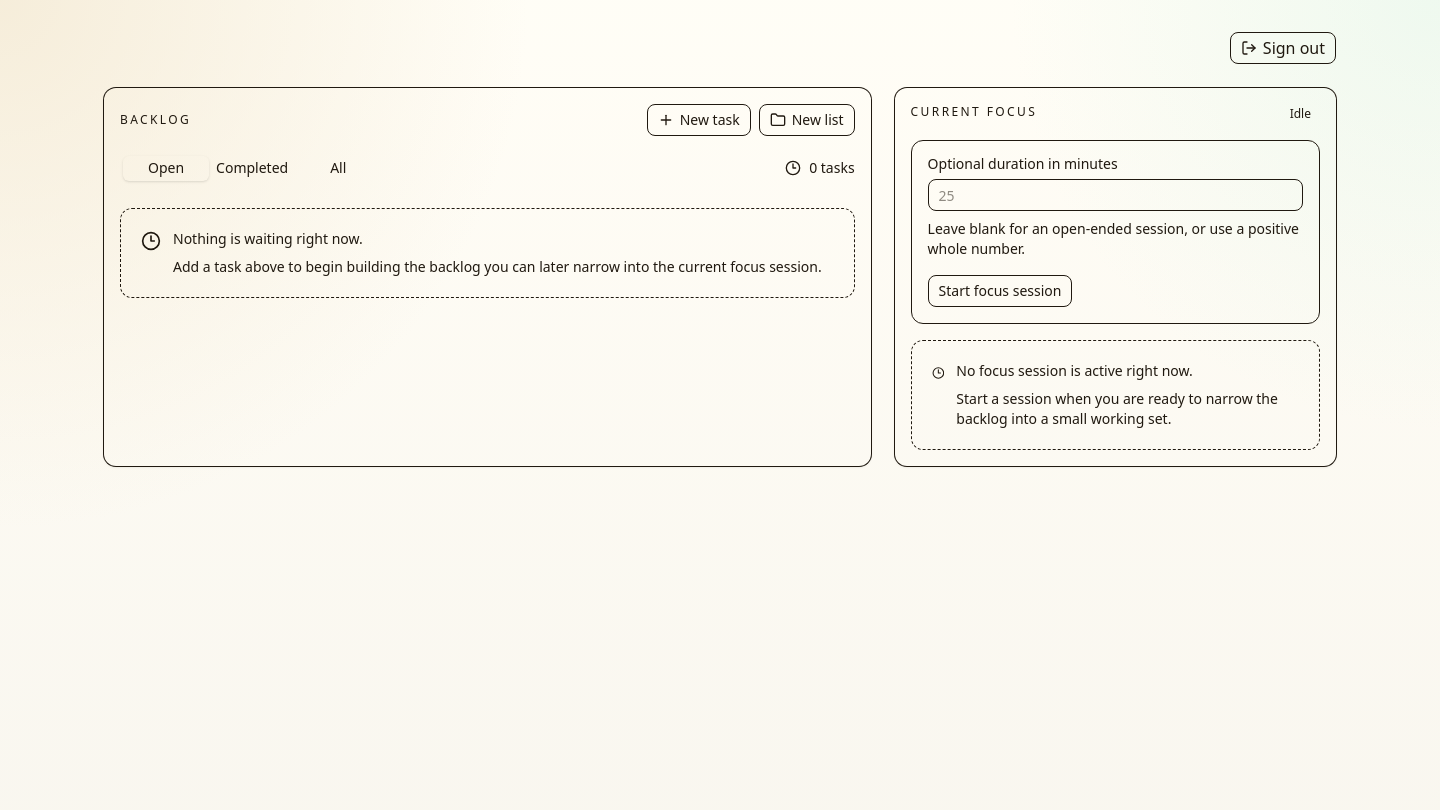
AppShellPage › opens compact creation dialogs from backlog actions
Click the button "New task".
click(699, 120)  # box [647,104,751,136]
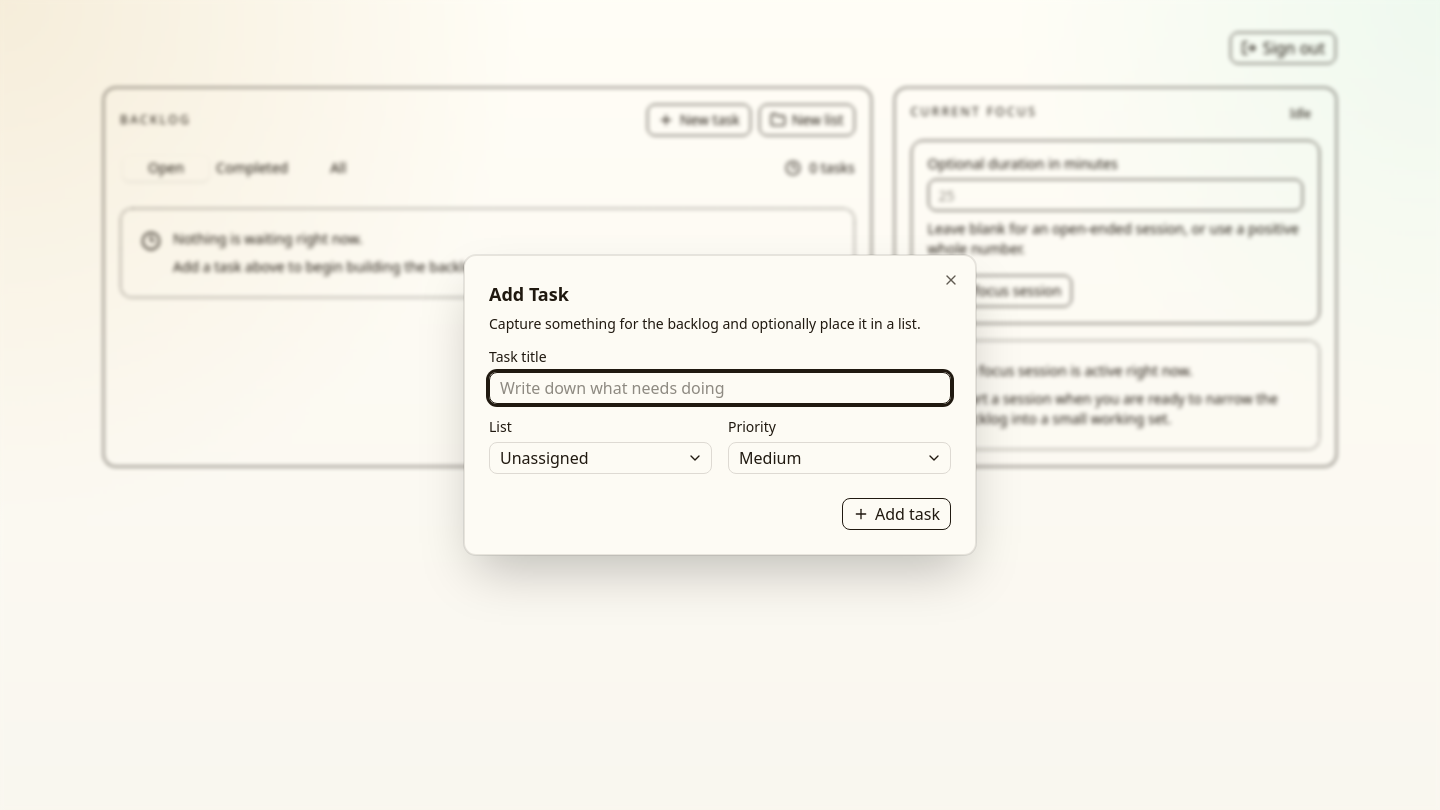
Result: the heading "Add Task" is shown at [489,282,569,306]
Click the button named "close".
click(951, 280)  # box [943,272,959,288]
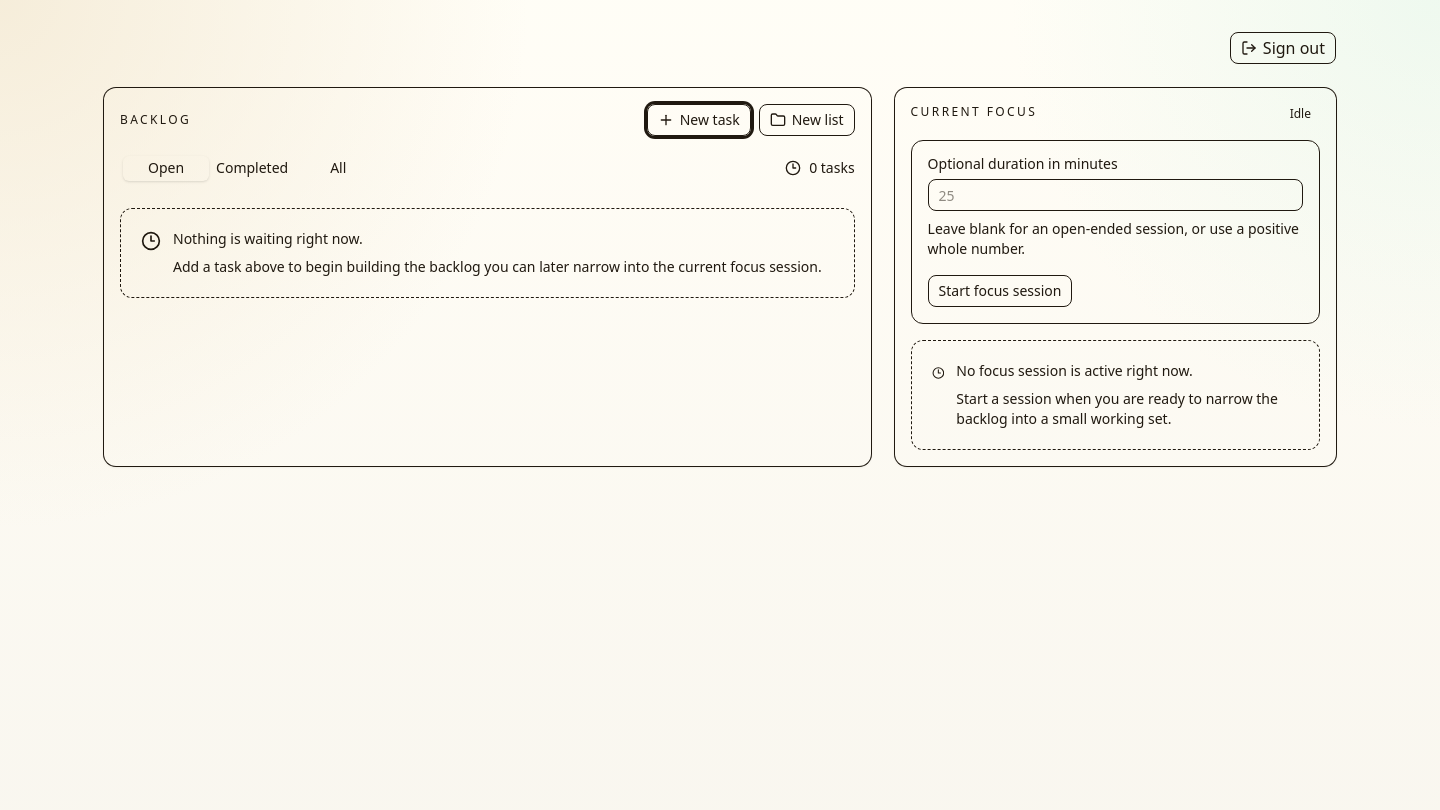
Click the button "New list".
click(807, 120)  # box [759,104,855,136]
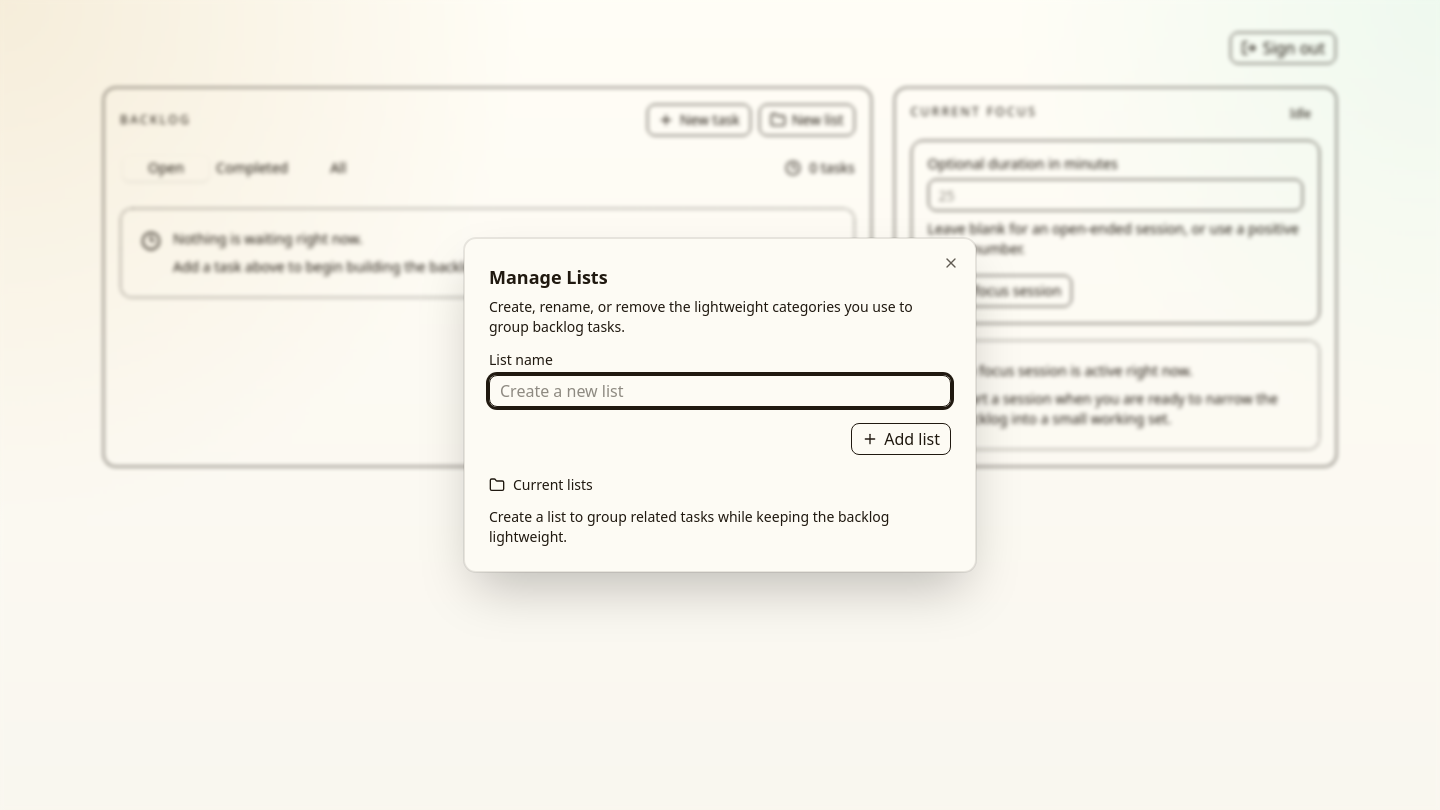
Result: the heading "Manage Lists" is shown at [489,265,608,289]
